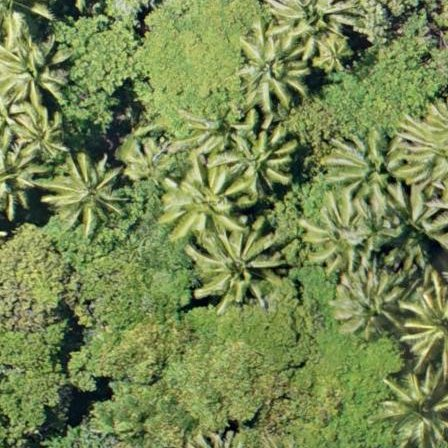palm_tree: (188, 216, 286, 321), (214, 113, 299, 203), (157, 157, 242, 247), (43, 146, 127, 235), (231, 22, 312, 109), (328, 263, 409, 350), (328, 133, 406, 210), (1, 36, 74, 110), (384, 368, 448, 448), (303, 199, 371, 265), (273, 1, 349, 51), (10, 108, 67, 164)
